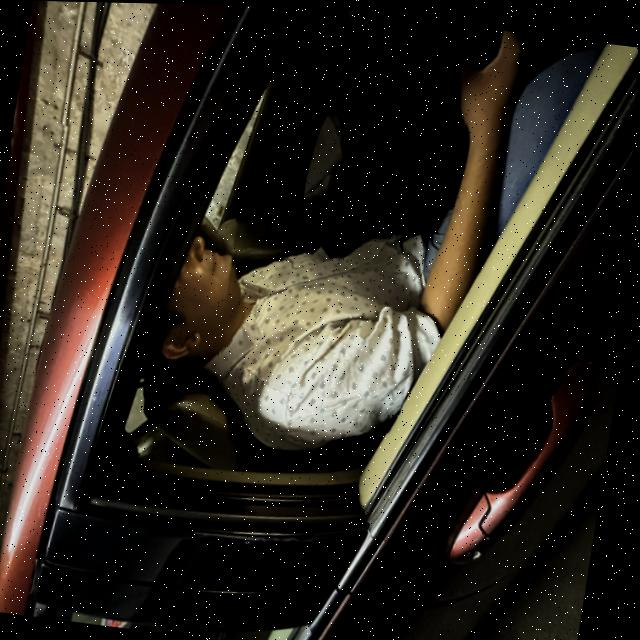no-seatbelt: (211, 198, 433, 433)
